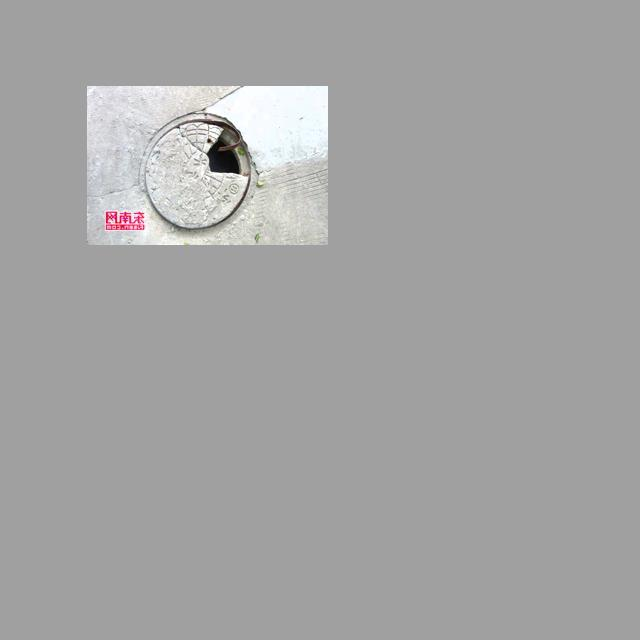broke: (134, 107, 263, 240)
